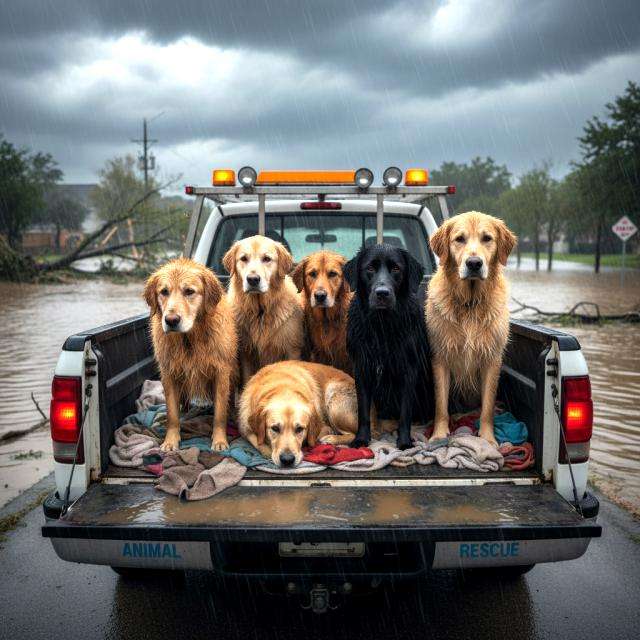dog: (129, 254, 252, 458), (421, 212, 518, 457), (336, 236, 431, 455), (234, 353, 372, 476), (212, 236, 310, 384), (290, 238, 357, 374)
